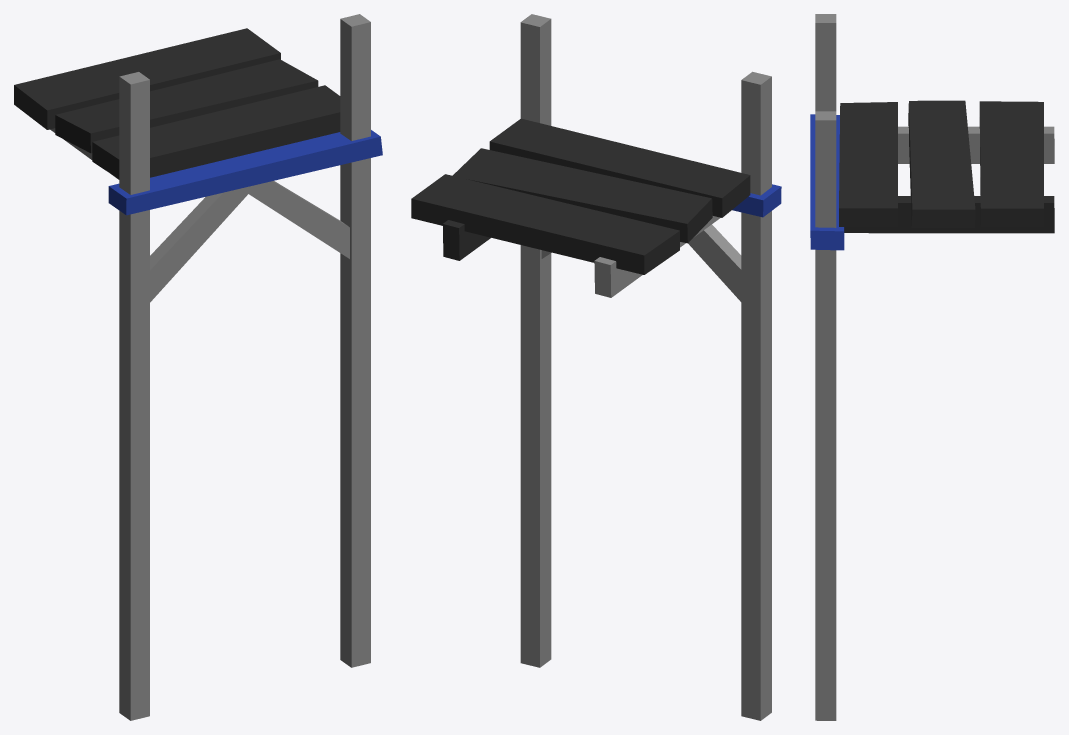
File: Dock_02_mm.fbx
3 views of the same model, side by side, from view 1: azimuth 30°, elevation 25°; view 2: azimuth 150°, elevation 25°; view 3: azimuth 270°, elevation 25° (orthographic). The views are drawn at different scales.
Parts seen in each view (by area): view 1: Dock_02; view 2: Dock_02; view 3: Dock_02.
Boxes of the visible parts, left/top/right/bottom form: Dock_02: left=14, top=14, right=382, bottom=720; Dock_02: left=411, top=14, right=781, bottom=720; Dock_02: left=810, top=14, right=1054, bottom=720.
Size of the model in its own units: 226 by 539 by 199.
